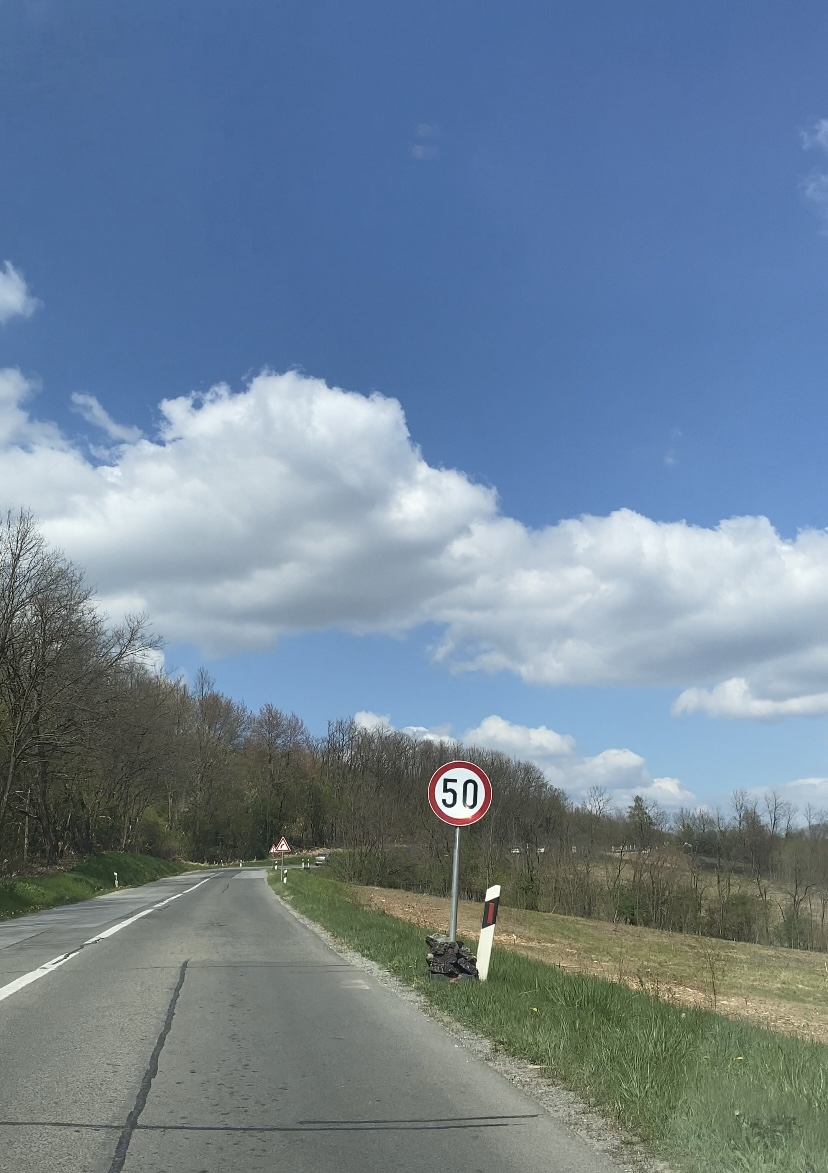Ograničenje brzine 50: (428, 760, 492, 826)
